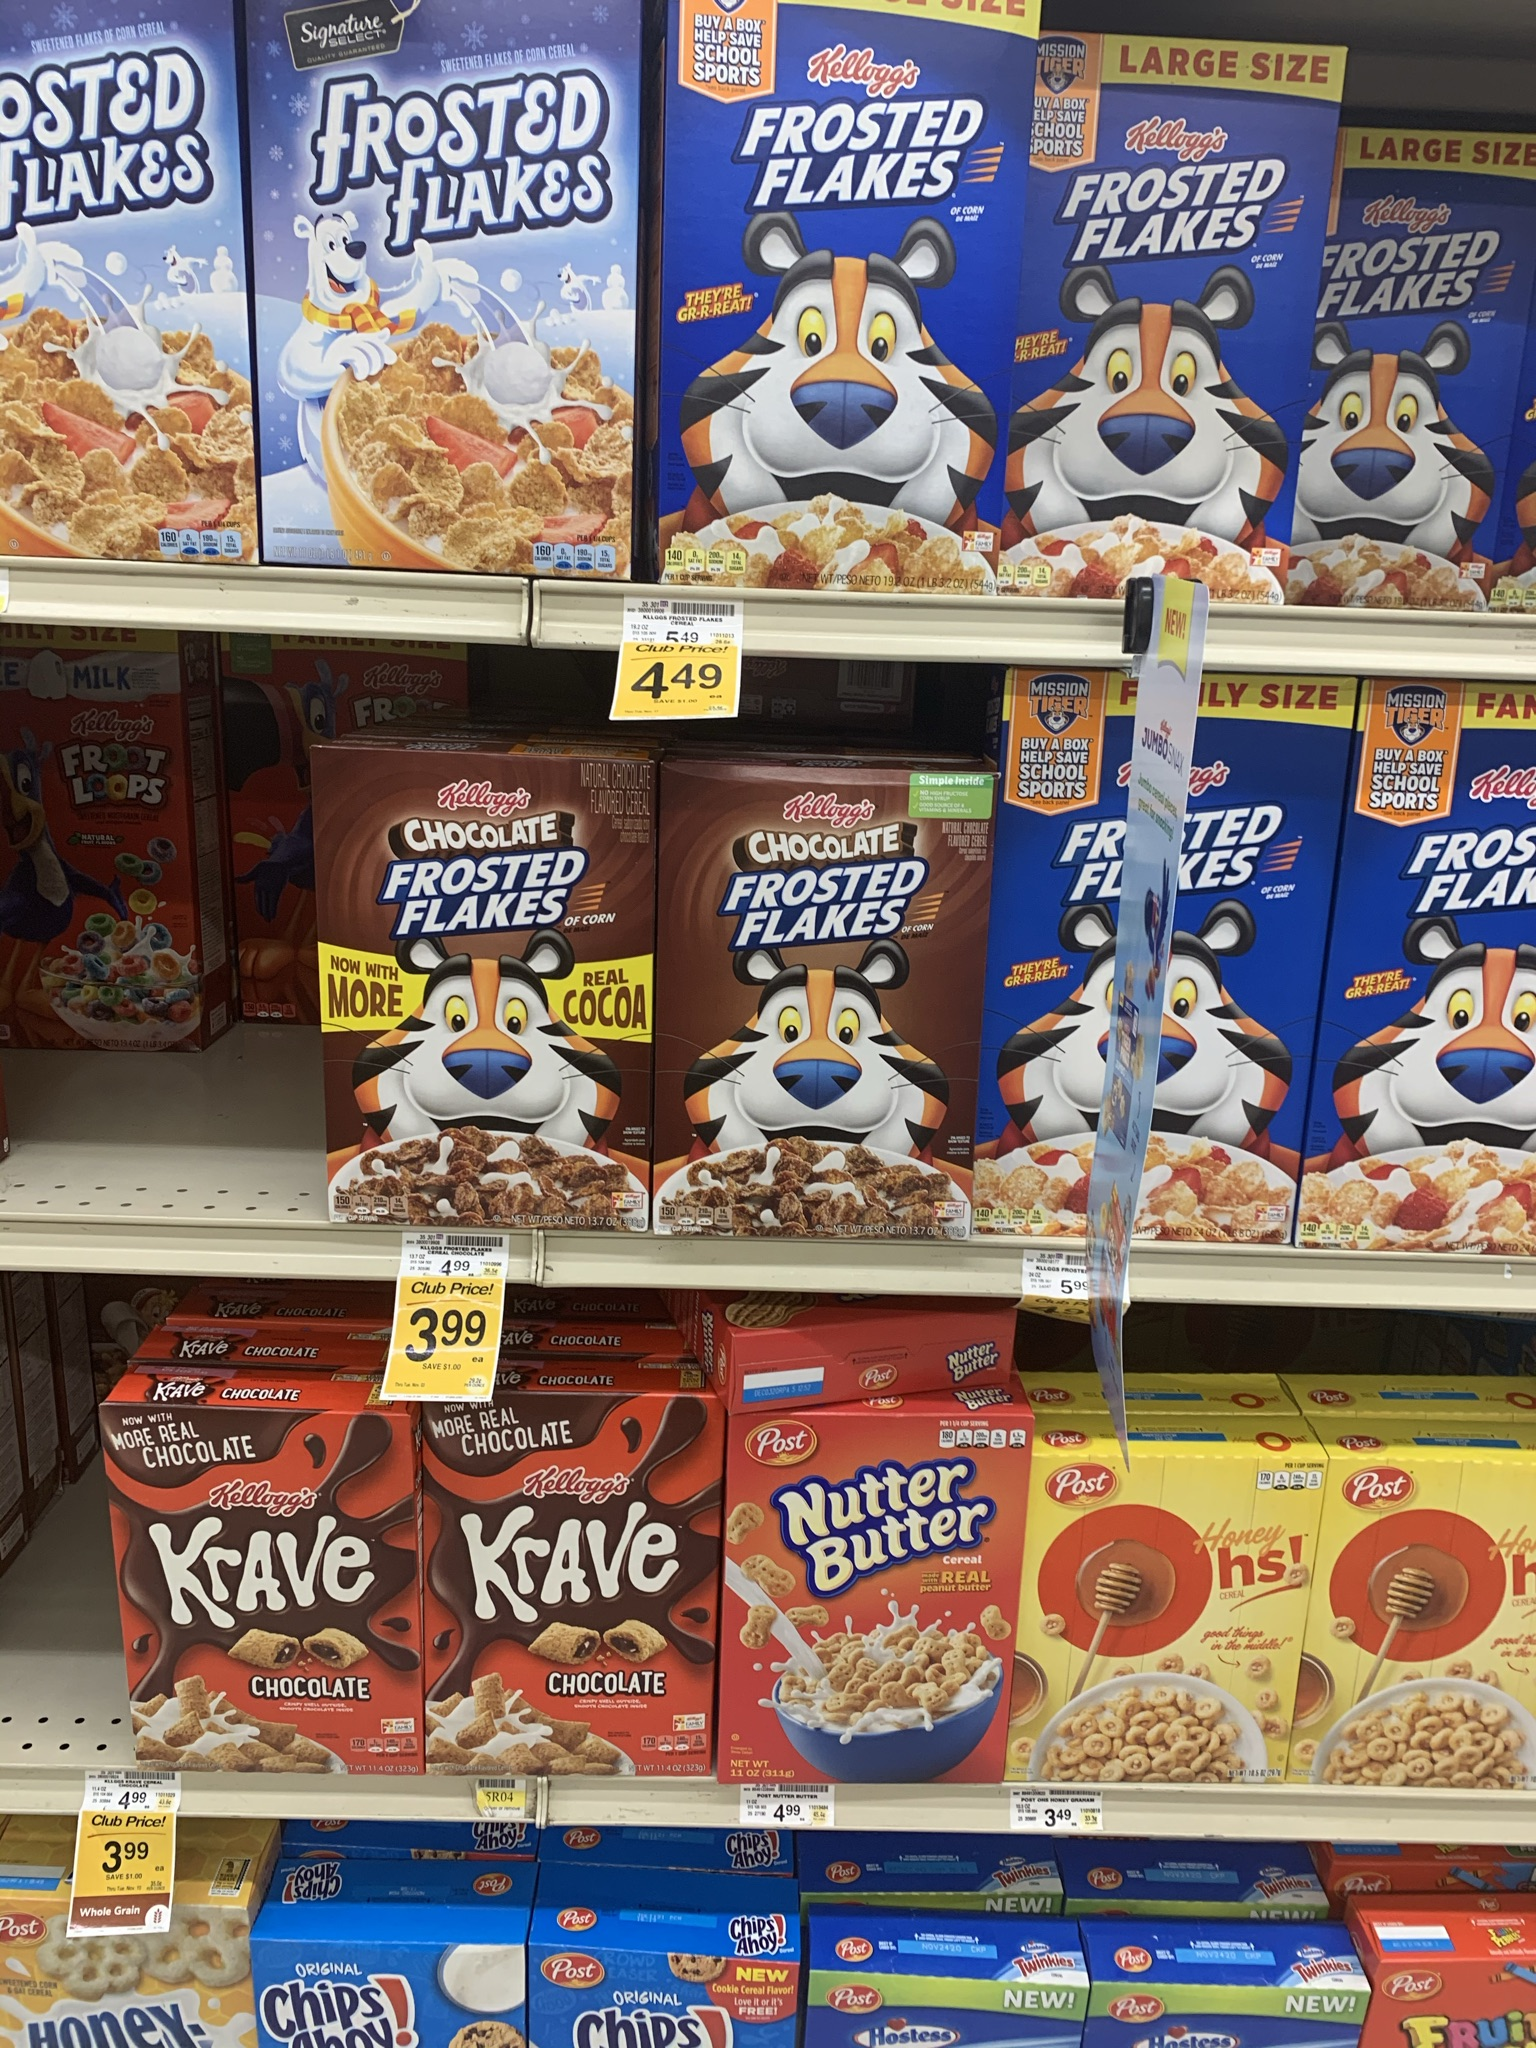cereal: (252, 21, 628, 574), (666, 2, 1000, 598), (997, 664, 1300, 1255), (316, 751, 644, 1247), (652, 766, 970, 1250), (1018, 39, 1286, 605), (2, 15, 231, 569), (1338, 685, 1536, 1274), (1317, 121, 1536, 632), (750, 1422, 1025, 1798), (1020, 1455, 1310, 1801), (1309, 1440, 1536, 1793), (260, 1945, 510, 2048)
